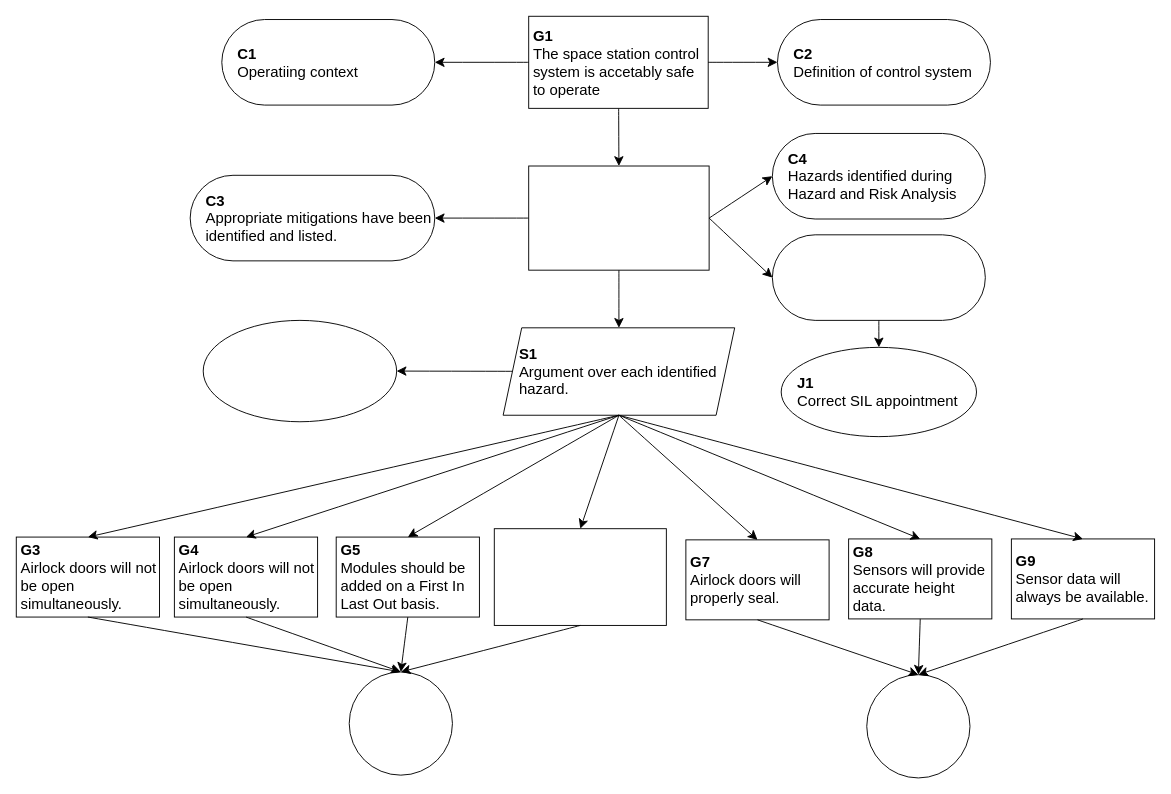
This 1171x794 diagram has some shape labels left out. The shapes that lost their labels are listed below. From the top down, each one's centre as x and y in pixels, then its label:
At (x=618, y=217): "G2 Potential hazards have been identified and mitigated.".
At (x=878, y=277): "C5 SIL 4 guidlines".
At (x=299, y=370): "A1 All hazards have been identified.".
At (x=579, y=576): "G6 Two crew must members monitor space walks from opposite ends of the station.".
At (x=400, y=723): "Sn1 Formal Verification".
At (x=918, y=726): "Sn2 Fault Tree Analysis".
